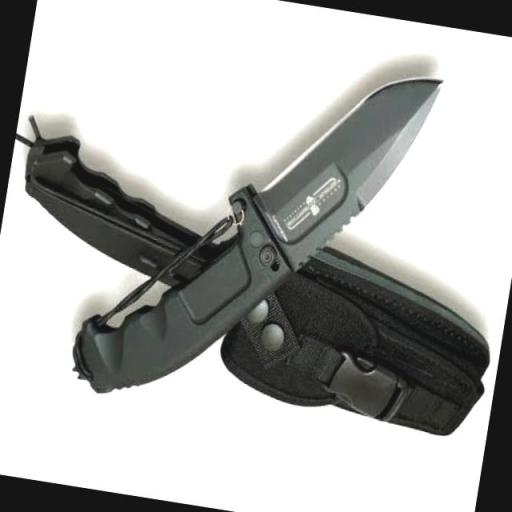knife: (224, 42, 450, 301)
